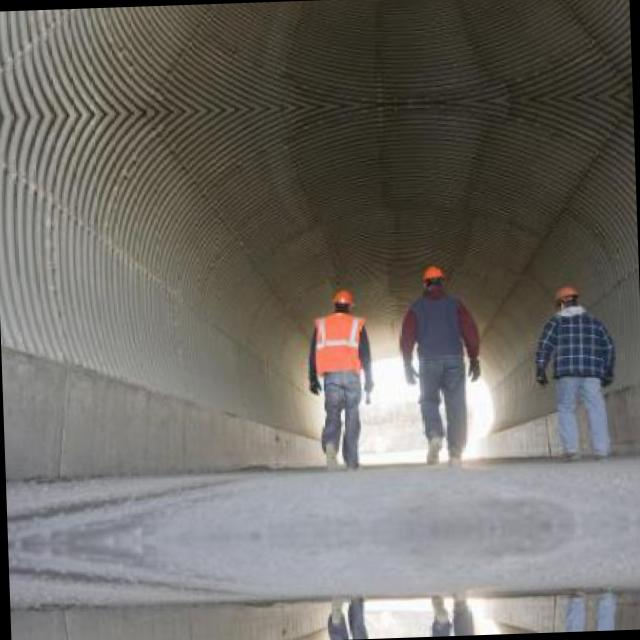helmet: (552, 282, 578, 316), (331, 286, 354, 318), (420, 264, 442, 297)
